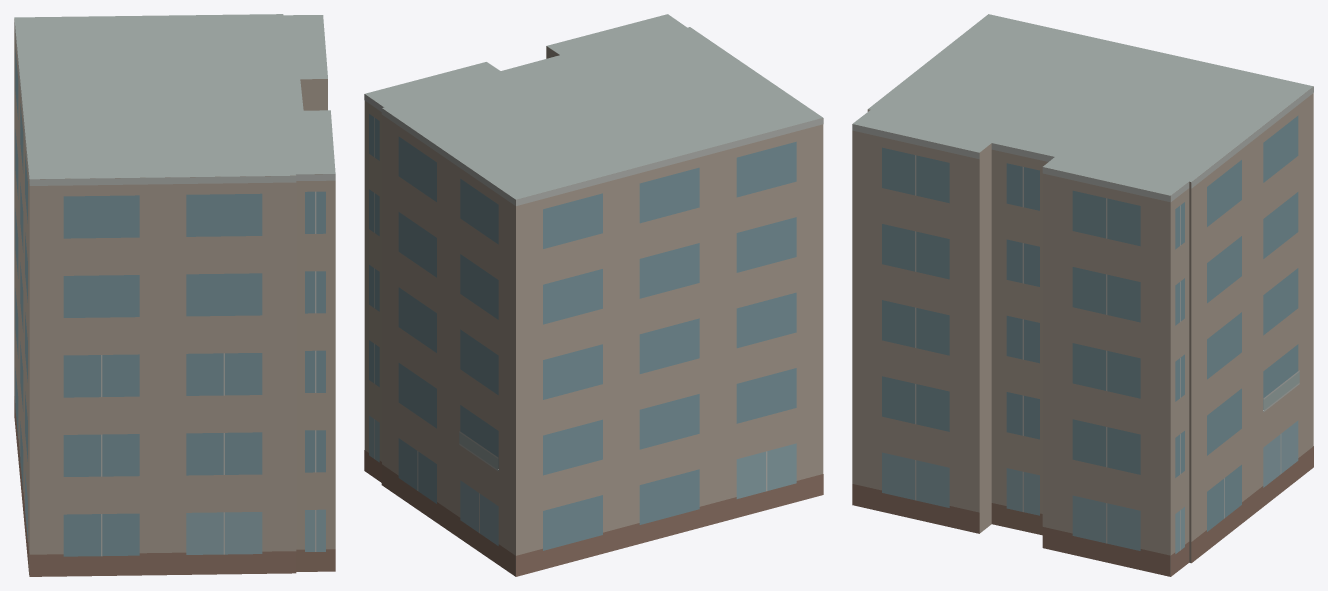
The model's file is survey-upis-32660274.glb.
The picture shows the model from 3 angles, left to right: view 1: azimuth 30°, elevation 25°; view 2: azimuth 150°, elevation 25°; view 3: azimuth 270°, elevation 25°; orthographic projection. The views are drawn at different scales.
Visible parts, largest first — view 1: survey-upis-32660274.tmp; view 2: survey-upis-32660274.tmp; view 3: survey-upis-32660274.tmp.
Part boxes in pixels (x1,y1,x2,y2): survey-upis-32660274.tmp: (14,14,335,576); survey-upis-32660274.tmp: (364,14,823,576); survey-upis-32660274.tmp: (852,14,1313,576).
Size of the model in its own units: 14.59 by 14.25 by 15.65.
